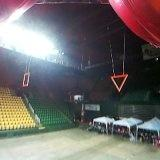Orange_Square_GShape: (22, 72, 30, 87)
Orange_Triangle_Gshape: (110, 74, 128, 92)
